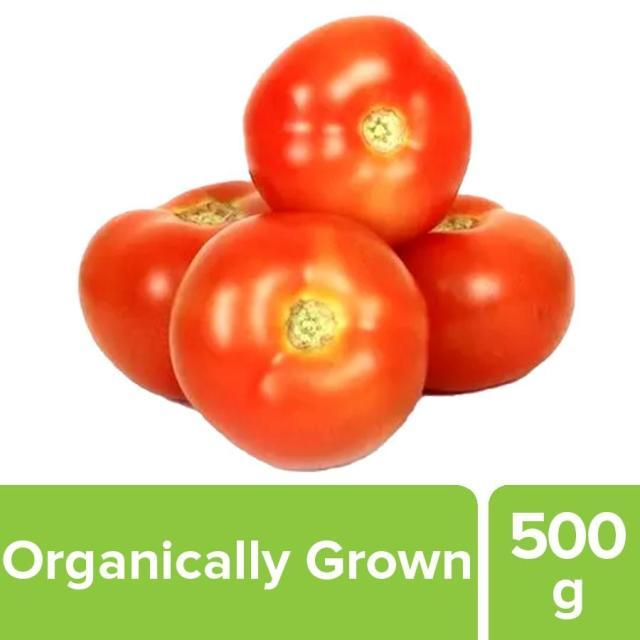kirmizi: (58, 12, 582, 476)
